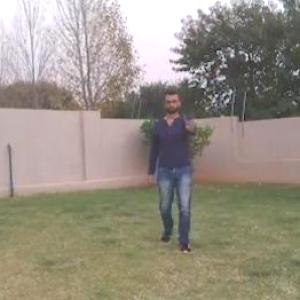takeoff-hand: (180, 106, 200, 138)
